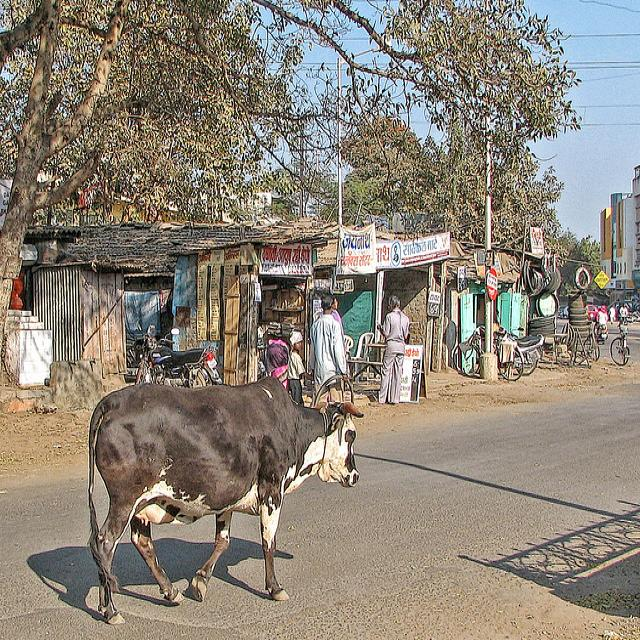motor: (134, 322, 224, 387), (508, 326, 546, 376), (593, 322, 608, 345)
